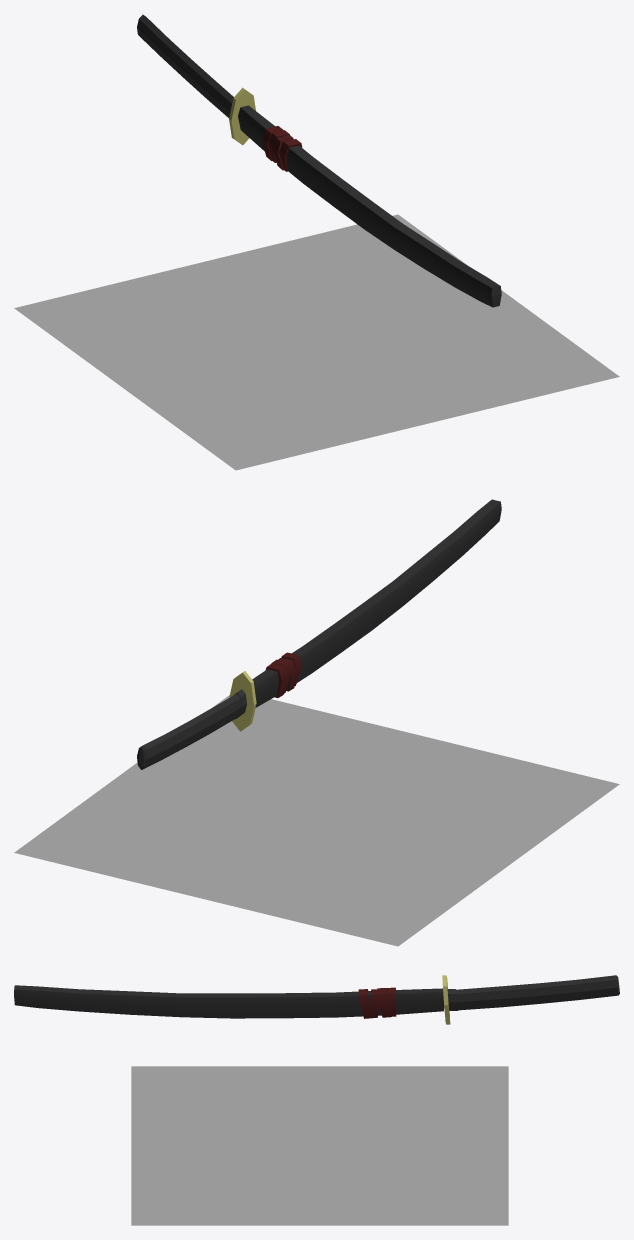
File: kATANA.fbx
3 renders of one model, top to bottom at view 1: azimuth 30°, elevation 25°; view 2: azimuth 150°, elevation 25°; view 3: azimuth 270°, elevation 25°, orthographic. The views are drawn at different scales.
Visible parts, largest first — view 1: pPlane1, polySurface6; view 2: pPlane1, polySurface6; view 3: pPlane1, polySurface6.
Part boxes in pixels (x1,y1,x2,y2): pPlane1: (14,214,619,470); polySurface6: (137,14,501,307); pPlane1: (14,695,619,946); polySurface6: (137,499,501,769); pPlane1: (131,1066,508,1225); polySurface6: (14,975,619,1024).
Bounding box in the file's own units: 27.34 × 13.64 × 43.89.
